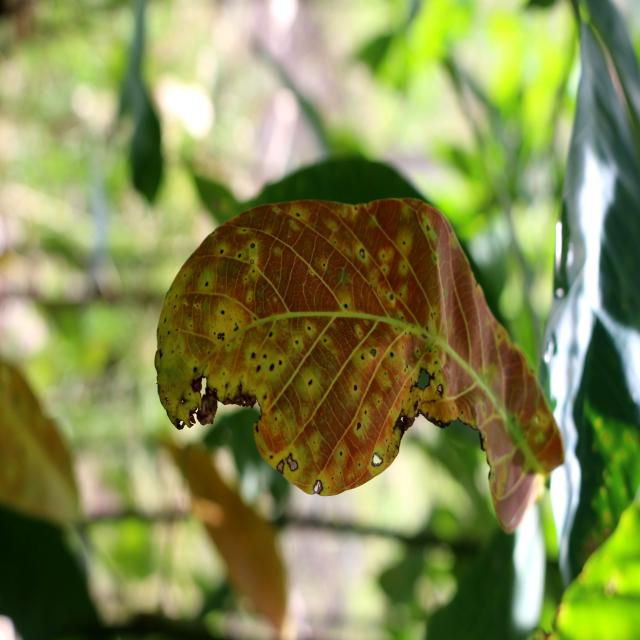Colletotrichum: (371, 452, 383, 467), (313, 480, 323, 494), (436, 384, 444, 394), (359, 249, 365, 259), (353, 384, 358, 392), (269, 364, 274, 371), (250, 243, 255, 249), (217, 333, 221, 339), (390, 352, 394, 358)
